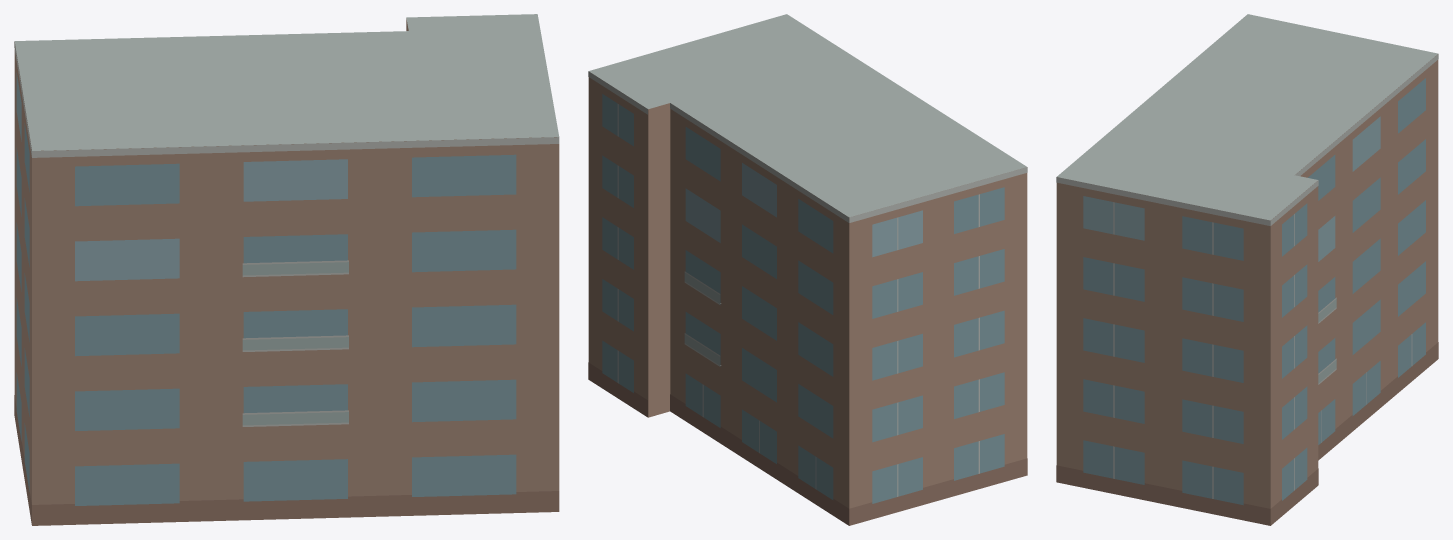
File: survey-upis-32890169.glb
The picture shows the model from 3 angles, left to right: view 1: azimuth 30°, elevation 25°; view 2: azimuth 150°, elevation 25°; view 3: azimuth 270°, elevation 25°; orthographic projection. The views are drawn at different scales.
Visible parts, largest first — view 1: survey-upis-32890169.tmp; view 2: survey-upis-32890169.tmp; view 3: survey-upis-32890169.tmp.
Boxes of the visible parts, x1,y1,x2,y2 form: survey-upis-32890169.tmp: (14, 14, 559, 525); survey-upis-32890169.tmp: (588, 14, 1027, 525); survey-upis-32890169.tmp: (1056, 14, 1438, 525).
Bounding box in the file's own units: 19.16 × 13.2 × 14.97.
